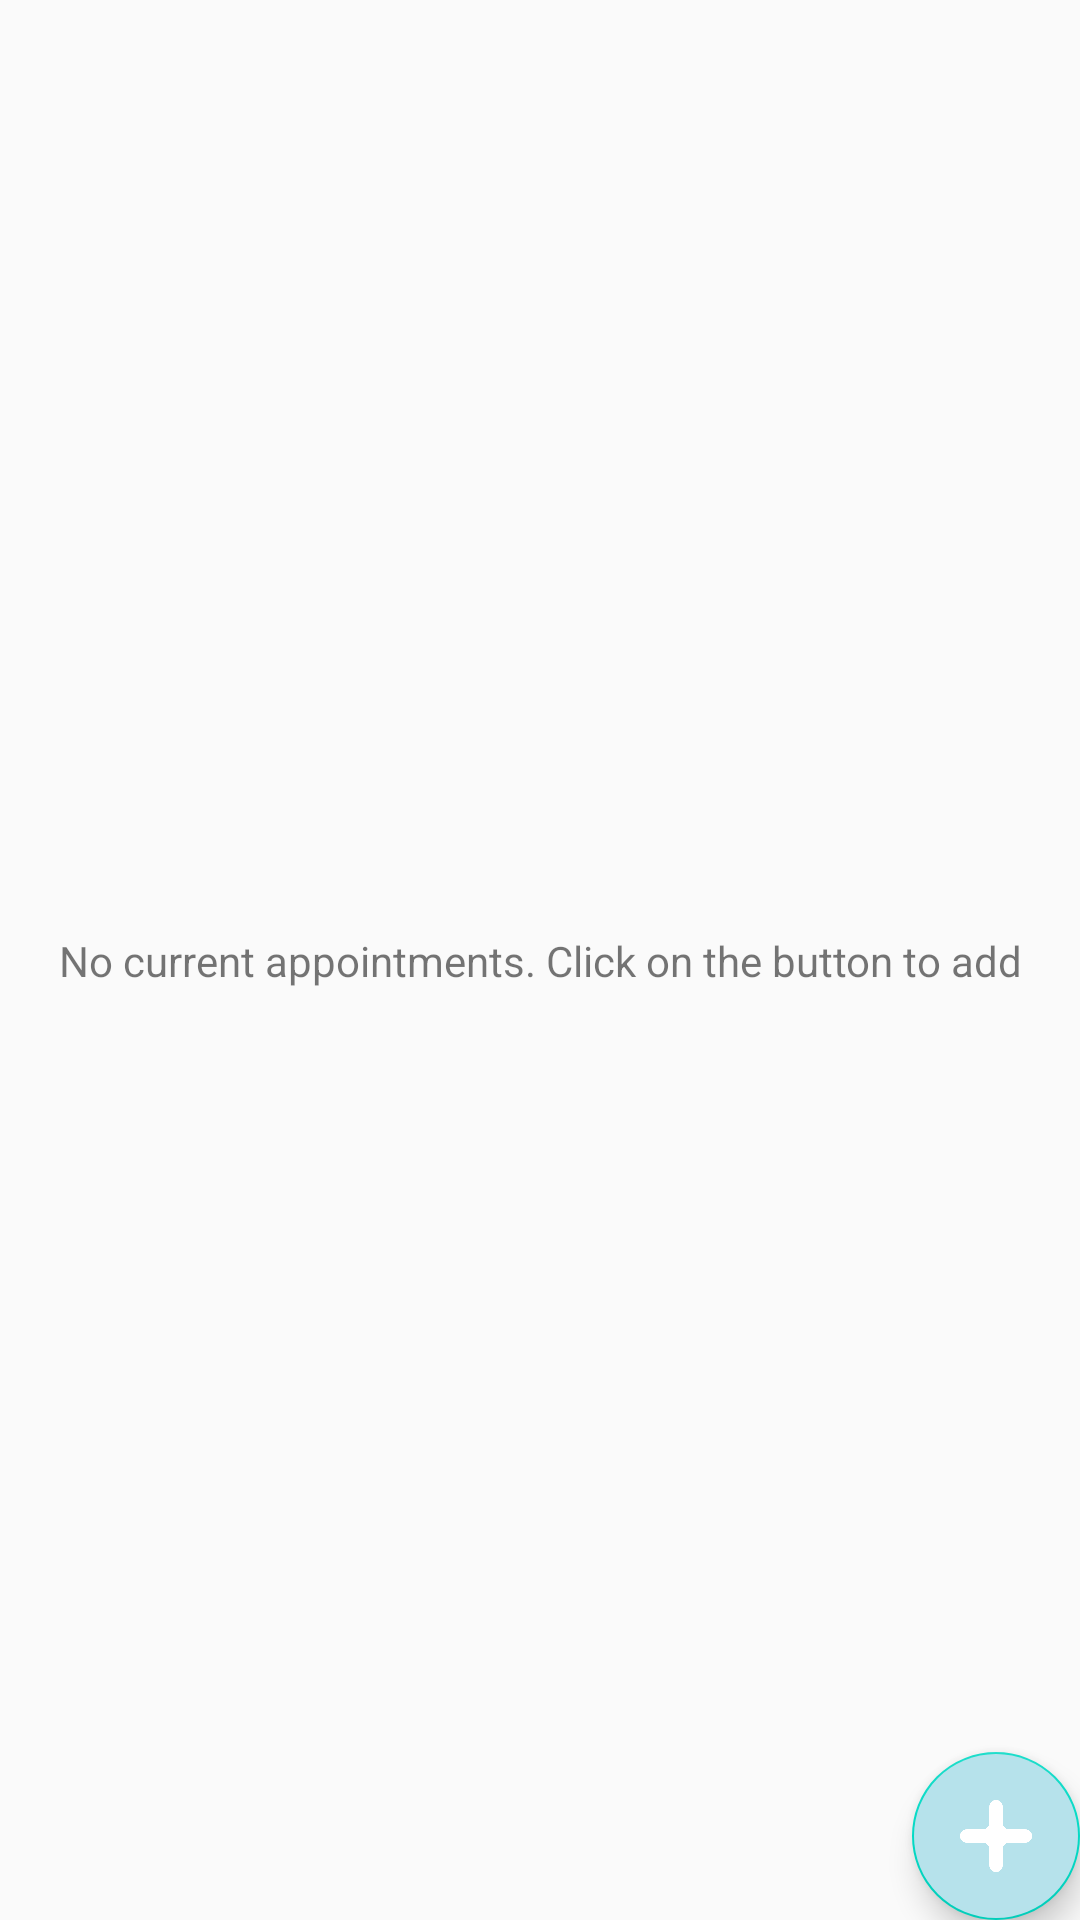

Icons on this 1080 x 1920 Android screen, each with its box as Rect(x1, y1, x2, y2):
floatbtn: Rect(912, 1752, 1080, 1920)
